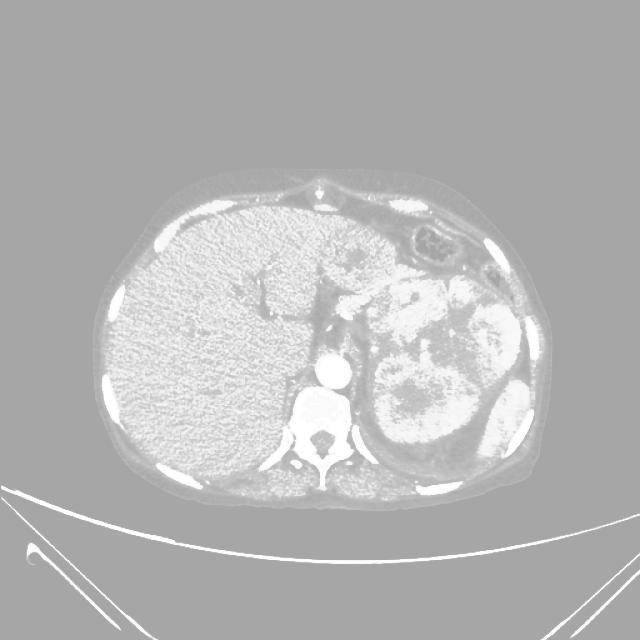TUMOR: (341, 257, 572, 506)
